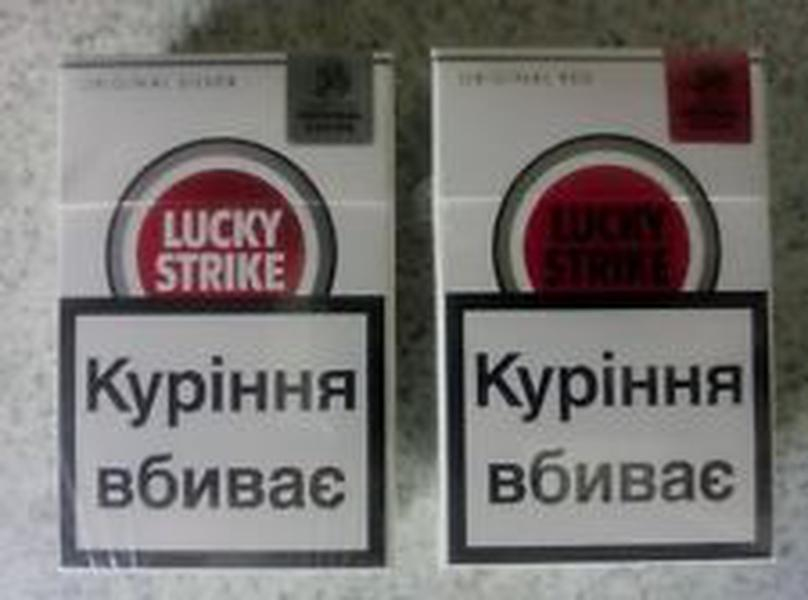lucky_strike_red: (437, 51, 771, 565), (61, 51, 389, 567)
